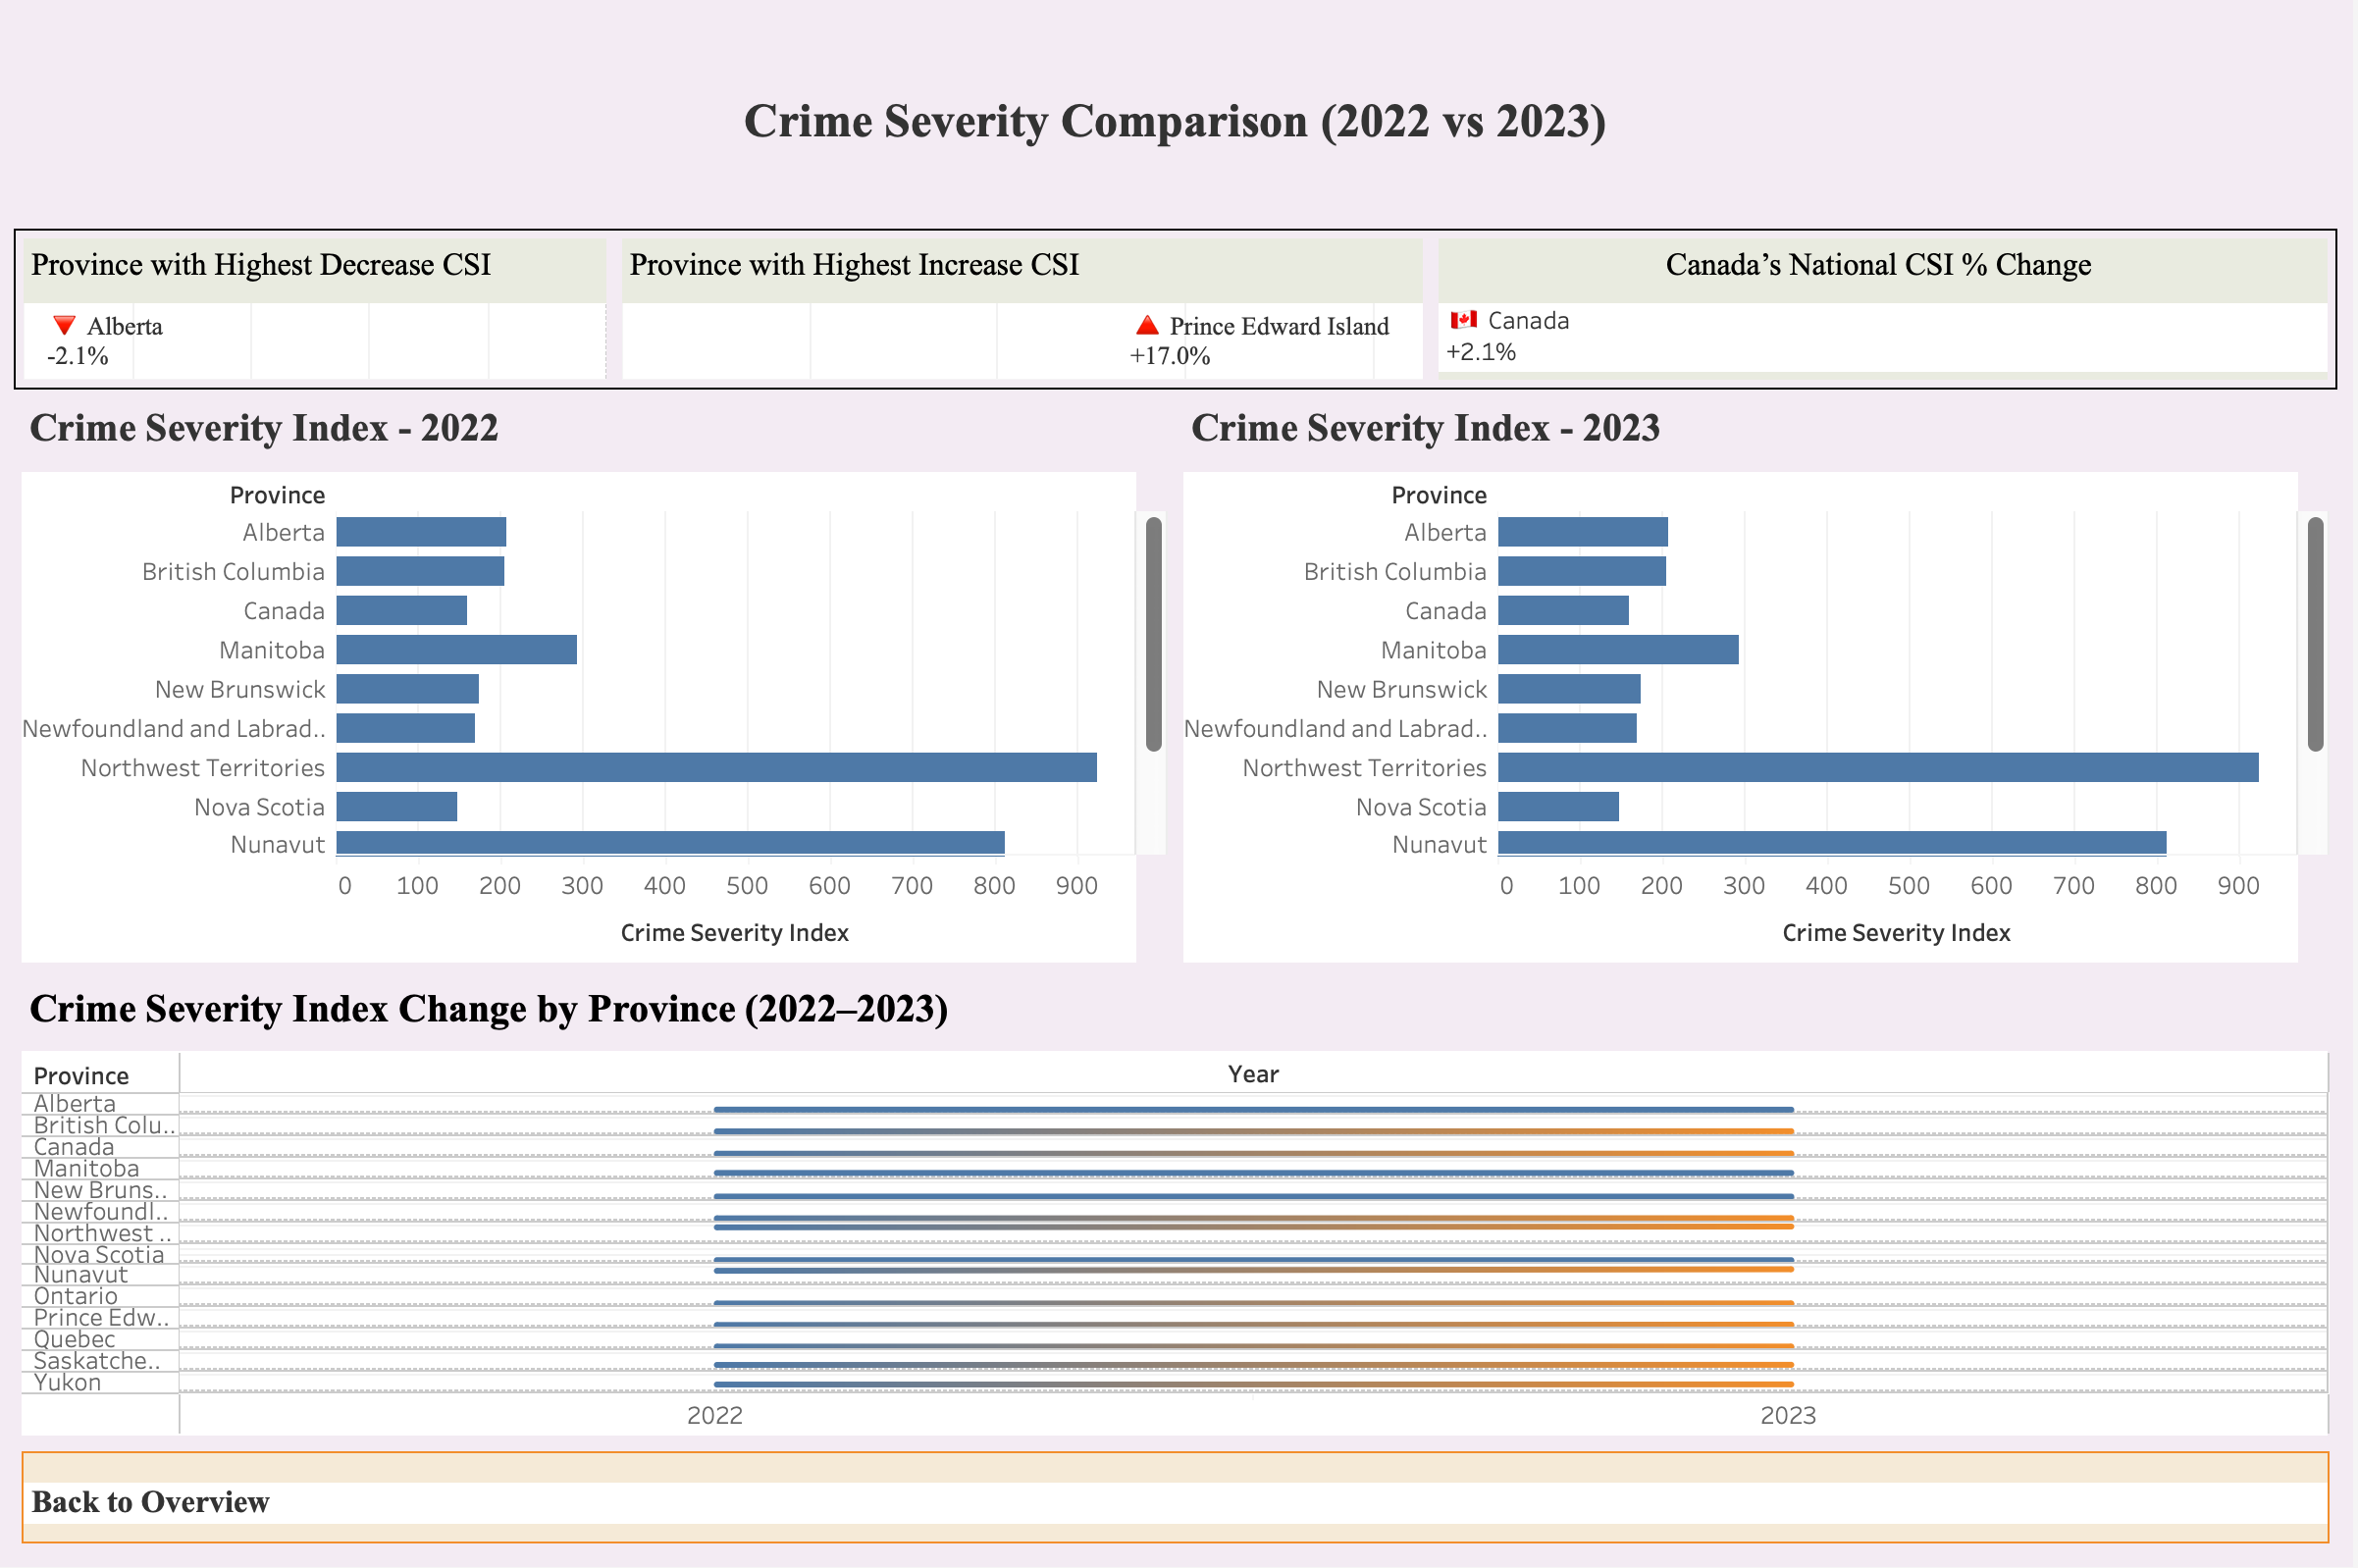

The page's visual inventory and layout, read from the dashboard file:
{"tool":"tableau","page":{"name":"Dashboard 2","canvas":[1000,1000],"units":"permille","ordinal":1},"visuals":[{"type":"title","box":[8.7,13.2,982.7,181.8]},{"type":"worksheet","title":"Sheet 10 (2)","mark":"Text","rows":["Province"],"cols":["Calculation_5500654371676909575"],"box":[9.8,196.7,330.4,132.2]},{"type":"worksheet","title":"Sheet 10","mark":"Text","rows":["Province"],"cols":["Calculation_5500654371676909575"],"box":[340.2,196.7,150.6,132.2]},{"type":"worksheet","title":"Sheet 12","mark":"Automatic","box":[490.8,196.7,499.5,132.2]},{"type":"worksheet","title":"Sheet 7","mark":"Automatic","rows":["Province"],"cols":["Pivot Field Values"],"box":[8.7,330.6,491.3,289.2]},{"type":"worksheet","title":"Sheet 7 (2)","mark":"Automatic","rows":["Province"],"cols":["Pivot Field Values"],"box":[500,330.6,491.3,289.2]},{"type":"worksheet","title":"Sheet 9","mark":"Line","rows":["Province","Pivot Field Values"],"cols":["Pivot Field Names"],"box":[8.7,619.8,982.7,299.2]},{"type":"worksheet","title":"Back to Overview","mark":"Text","box":[8.7,919,982.7,67.8]}]}

Visuals, with their boxes on the dashboard's canvas, which has no fixed pixel size, in thousandths of its width and height (x1, y1, x2, y2). These are canvas units, not pixel positions in the 2358x1568 screenshot, which may show the page scaled, cropped or inside an application window:
title: select_region(9, 13, 991, 195)
"Sheet 10 (2)" worksheet (Text marks): select_region(10, 197, 340, 329)
"Sheet 10" worksheet (Text marks): select_region(340, 197, 491, 329)
"Sheet 12" worksheet: select_region(491, 197, 990, 329)
"Sheet 7" worksheet: select_region(9, 331, 500, 620)
"Sheet 7 (2)" worksheet: select_region(500, 331, 991, 620)
"Sheet 9" worksheet (Line marks): select_region(9, 620, 991, 919)
"Back to Overview" worksheet (Text marks): select_region(9, 919, 991, 987)
